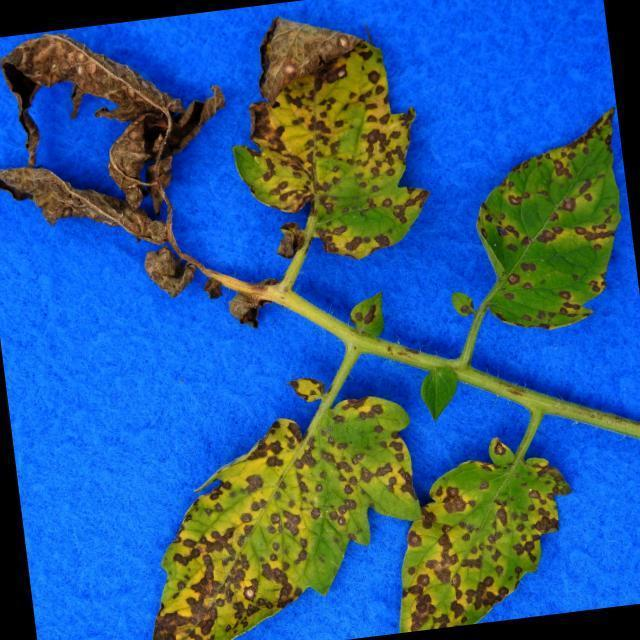Septoria: (159, 386, 427, 640), (460, 112, 636, 356), (268, 61, 420, 262), (414, 444, 574, 628)
